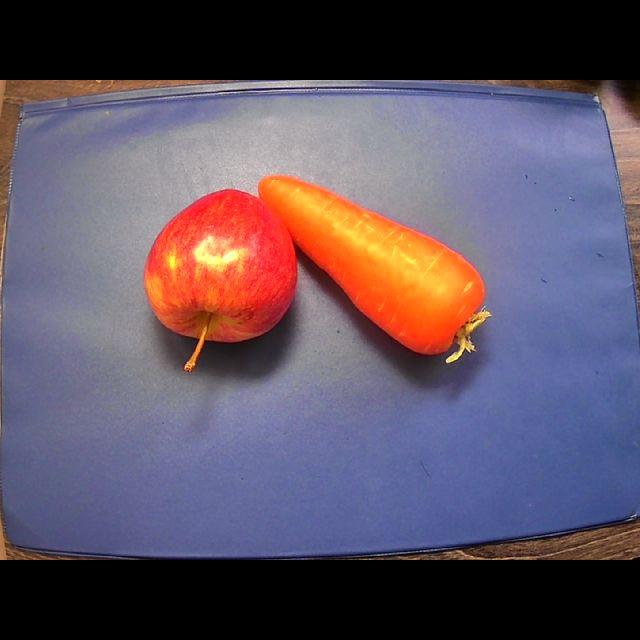manzana: (144, 189, 296, 371)
zanahoria: (259, 175, 491, 362)
